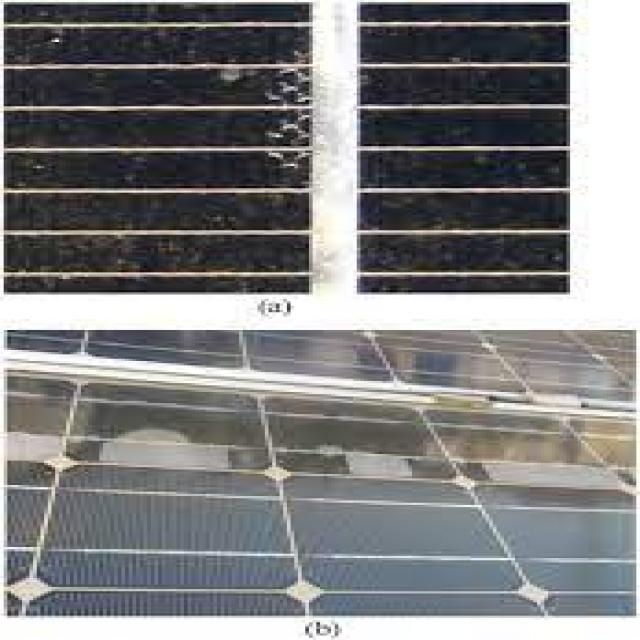faulty: (0, 318, 640, 625), (0, 2, 578, 310)
